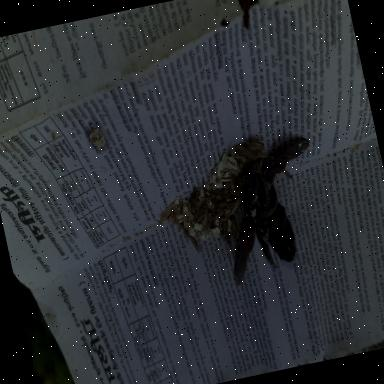pbw: (233, 141, 258, 162), (243, 134, 265, 156), (257, 153, 266, 160)
